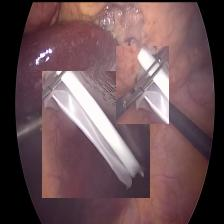Grasper: (115, 45, 167, 121), (17, 92, 69, 149)
Specimen Bag: (41, 70, 149, 196)
